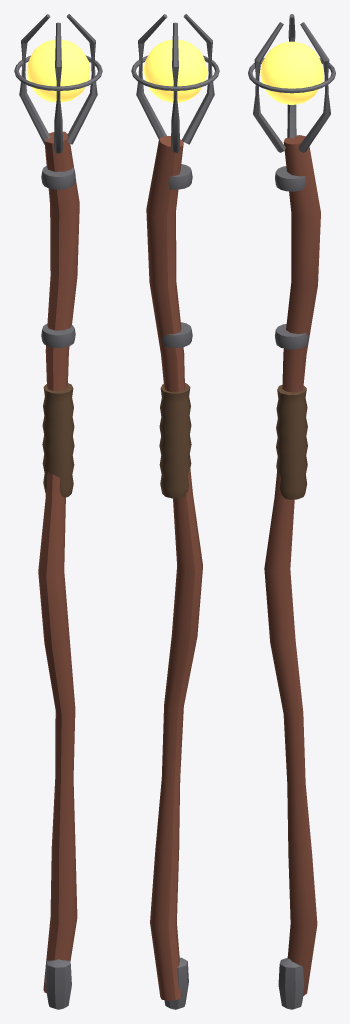
Rendered from depth_cinder_lanternstaff.glb.
3 views of the same model, side by side, from view 1: azimuth 30°, elevation 25°; view 2: azimuth 150°, elevation 25°; view 3: azimuth 330°, elevation 25° (orthographic).
Visible parts, largest first — view 1: depth_cinder_lanternstaff; view 2: depth_cinder_lanternstaff; view 3: depth_cinder_lanternstaff.
Part boxes in pixels (x1=…): depth_cinder_lanternstaff: x1=14, y1=14, x2=102, y2=1009; depth_cinder_lanternstaff: x1=131, y1=14, x2=219, y2=1009; depth_cinder_lanternstaff: x1=248, y1=14, x2=335, y2=1009.
Bounding box in the file's own units: 0.1514 × 1.88 × 0.1512.
